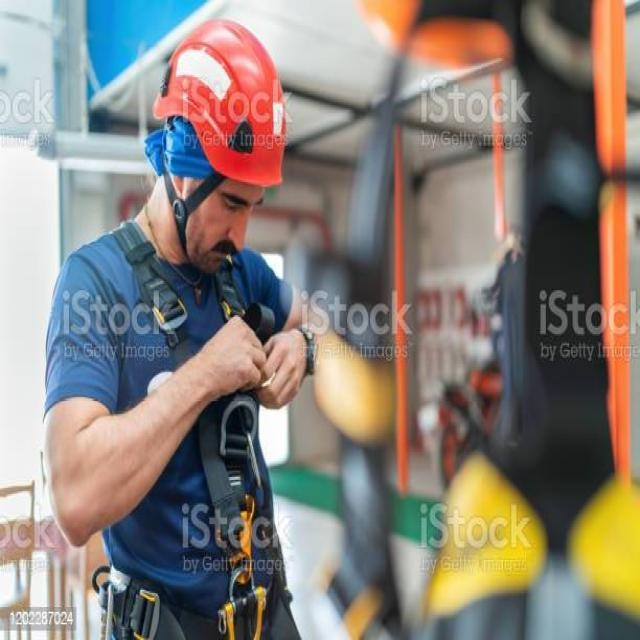Arnes_seguridad: (90, 204, 291, 640)
